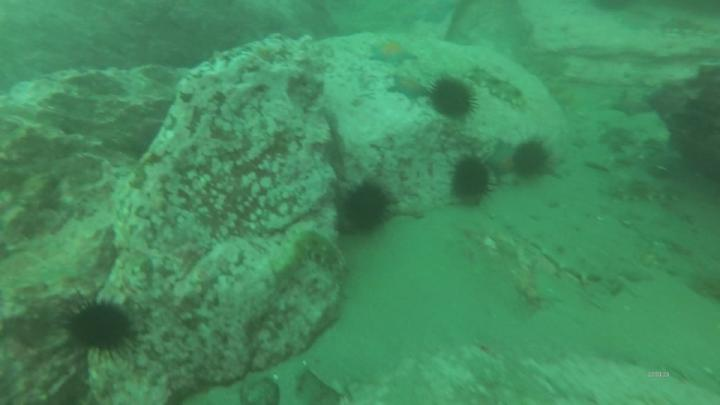echinus: (54, 291, 146, 365), (448, 149, 496, 211), (344, 177, 395, 235), (428, 73, 478, 126), (510, 135, 553, 183)
holothurian: (513, 225, 611, 288), (469, 68, 534, 113), (602, 174, 690, 207)
starfish: (383, 71, 434, 106), (366, 39, 422, 70)
